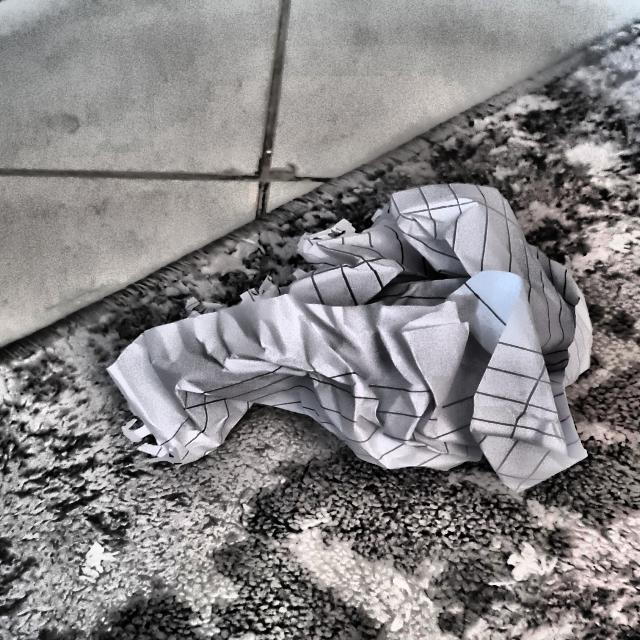paper: (100, 176, 617, 481)
